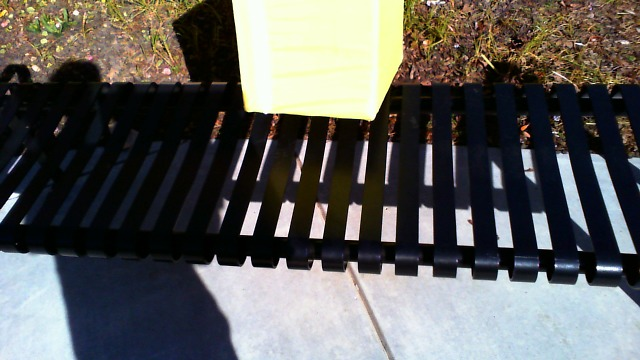cube: (225, 1, 405, 131)
